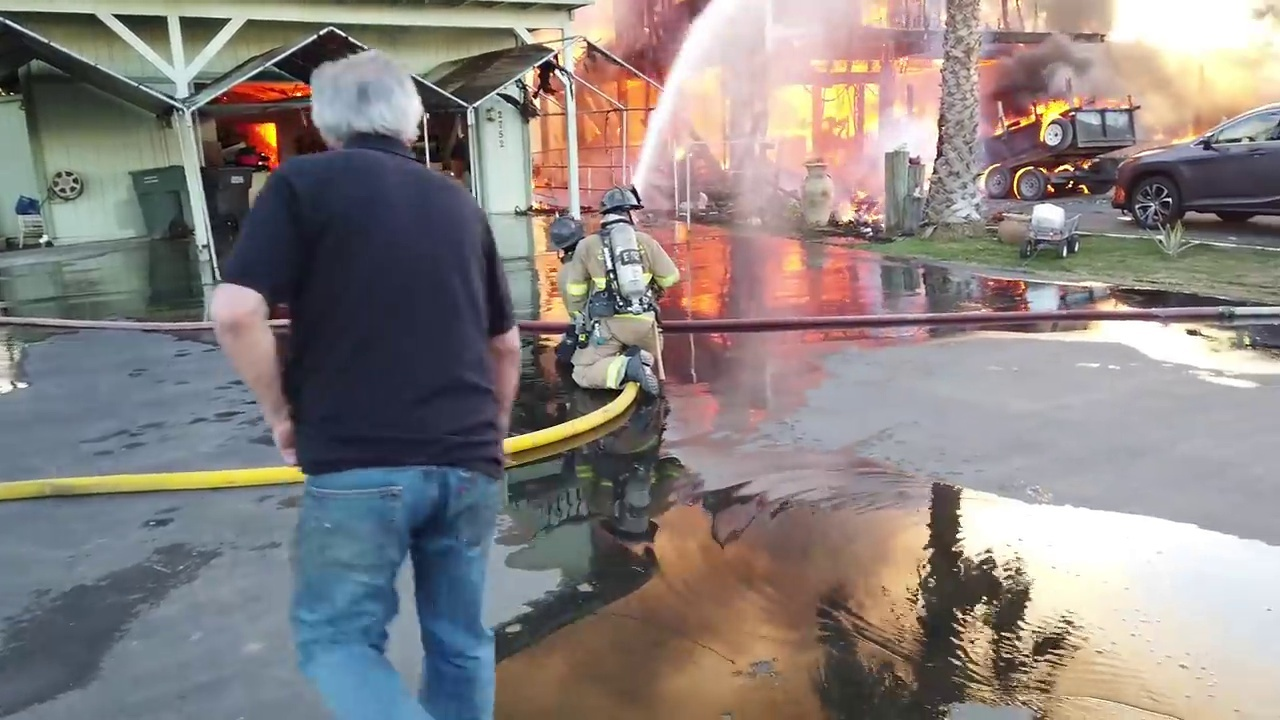fire: (762, 45, 881, 173), (982, 161, 1095, 206), (1003, 95, 1101, 138), (243, 121, 285, 166)
smoke: (966, 1, 1280, 95), (563, 1, 662, 53)
